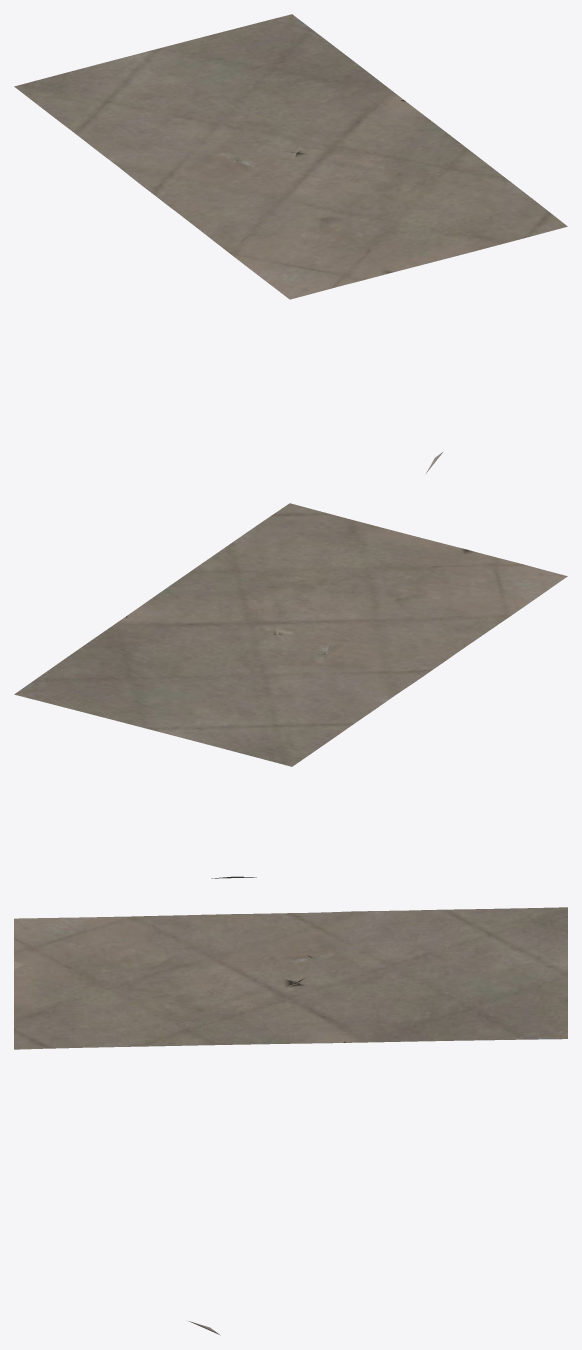
3 views of the same model, one above another, from view 1: azimuth 30°, elevation 25°; view 2: azimuth 150°, elevation 25°; view 3: azimuth 270°, elevation 25° (orthographic).
Bounding box in the file's own units: 3.73 × 3.95 × 6.41.
Materials: 1 (1 with a texture image).
